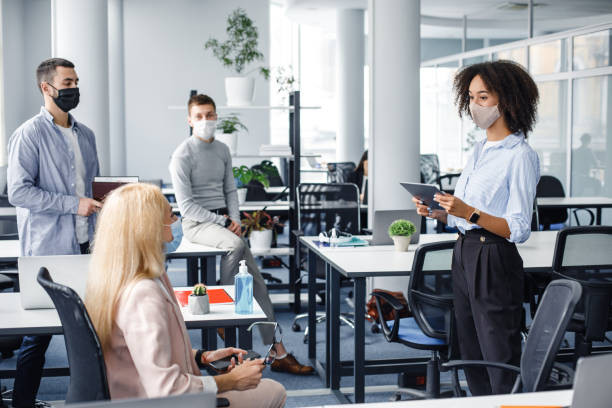with mask: (132, 192, 184, 260), (462, 68, 514, 136), (35, 58, 85, 114), (188, 97, 222, 143)
